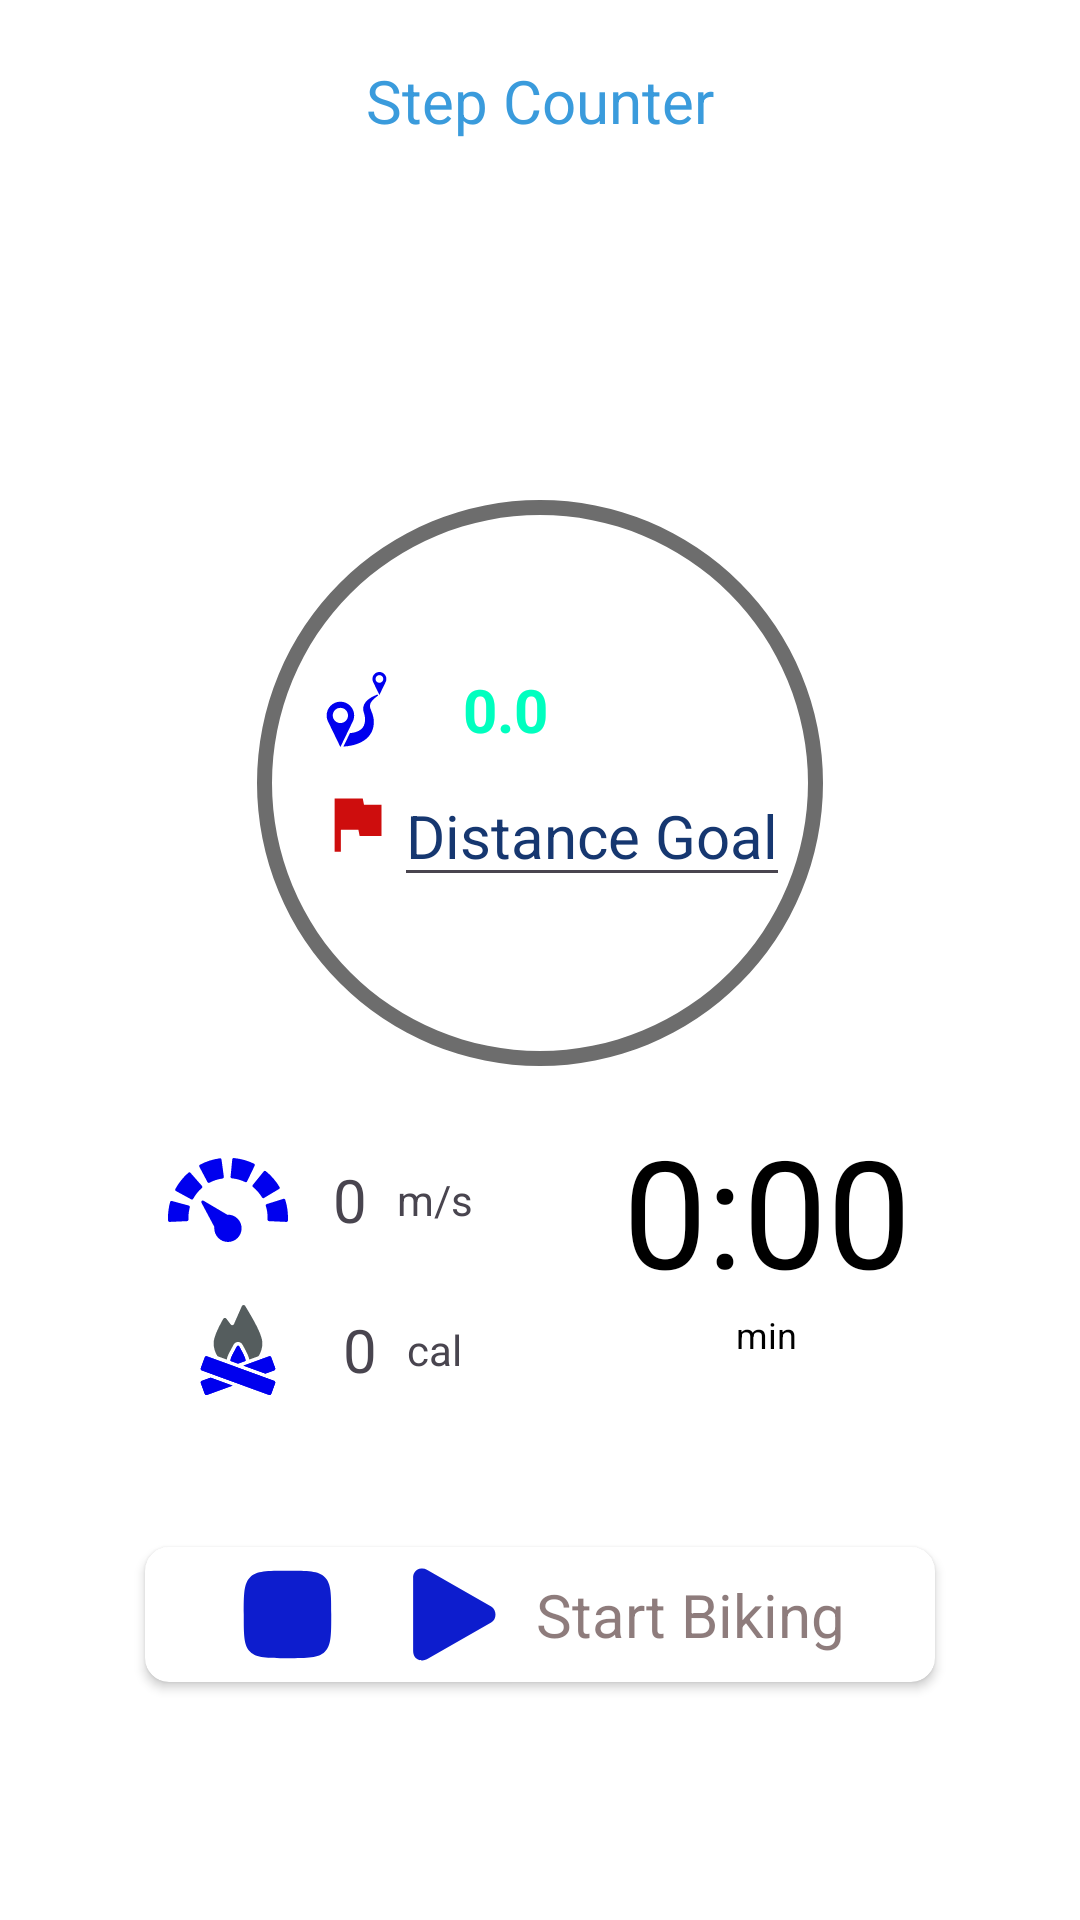

Icon bounding boxes for this 1080px x 1920px phone screenshot, format bbox(x1, y1, x2, y2):
calories: bbox(200, 1305, 276, 1395)
resume: bbox(413, 1568, 496, 1661)
speed: bbox(168, 1158, 288, 1242)
stop: bbox(243, 1570, 332, 1659)
